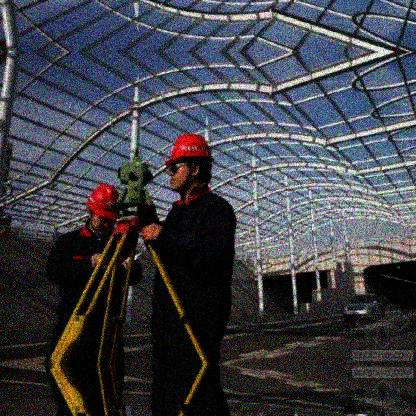helmet: (164, 133, 215, 197), (85, 185, 119, 236)
